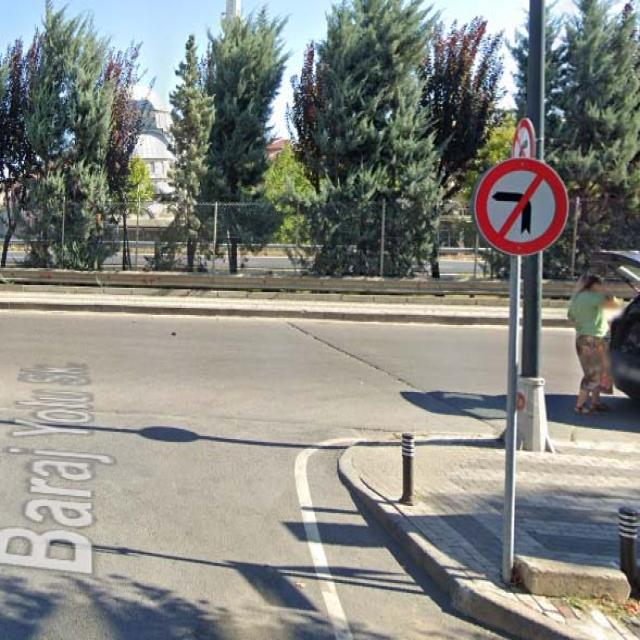soladonulmez: (476, 158, 568, 255)
